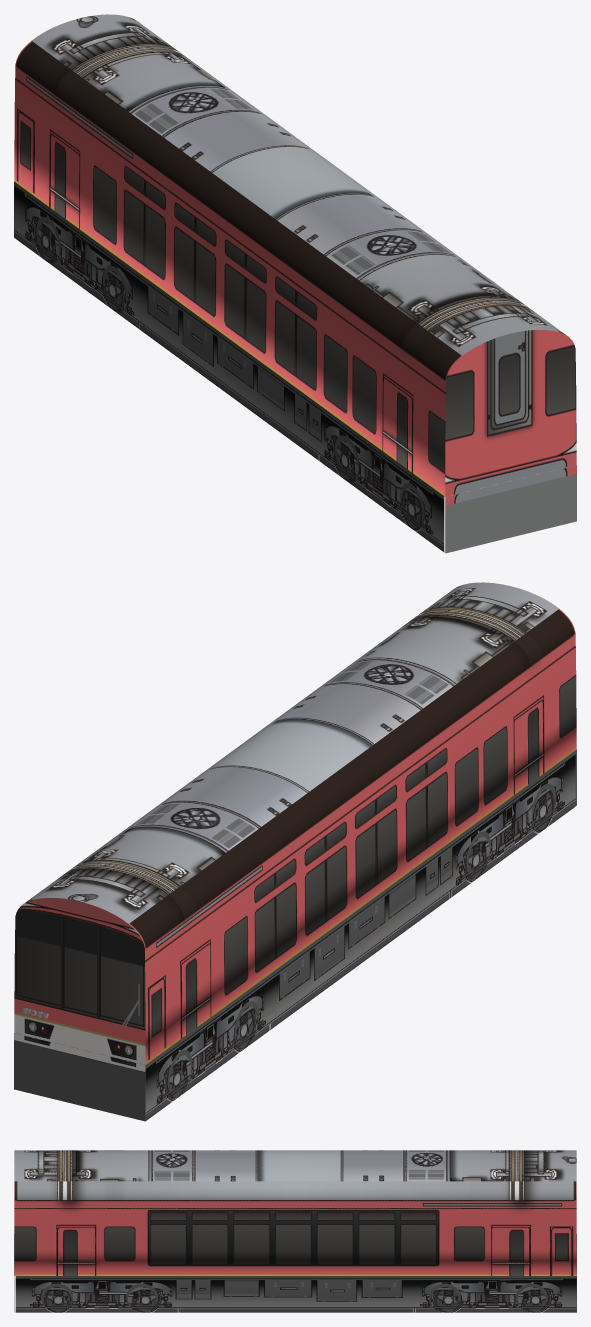
Rendered from car2.glb.
3 views of the same model, one above another, from view 1: azimuth 30°, elevation 25°; view 2: azimuth 150°, elevation 25°; view 3: azimuth 270°, elevation 25° (orthographic). The views are drawn at different scales.
Parts seen in each view (by area): view 1: eizan-900-car2; view 2: eizan-900-car2; view 3: eizan-900-car2.
Boxes of the visible parts, x1=… form: eizan-900-car2: x1=14, y1=14, x2=576, y2=553; eizan-900-car2: x1=14, y1=582, x2=576, y2=1121; eizan-900-car2: x1=14, y1=1150, x2=576, y2=1312.
Size of the model in its own units: 2.69 by 3.98 by 15.3.
Materials: 9 (8 with a texture image).
